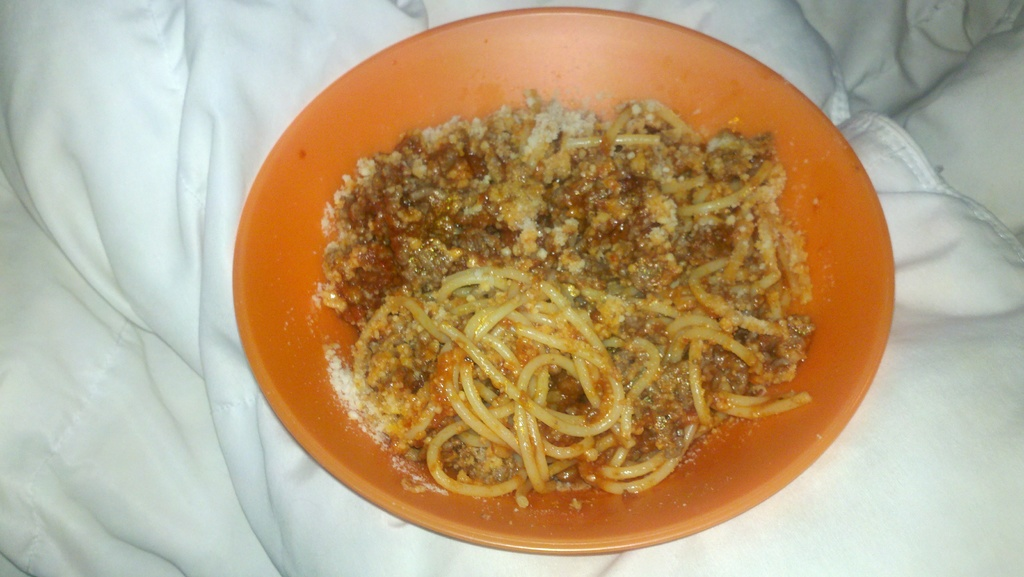pasta: (355, 101, 814, 506)
